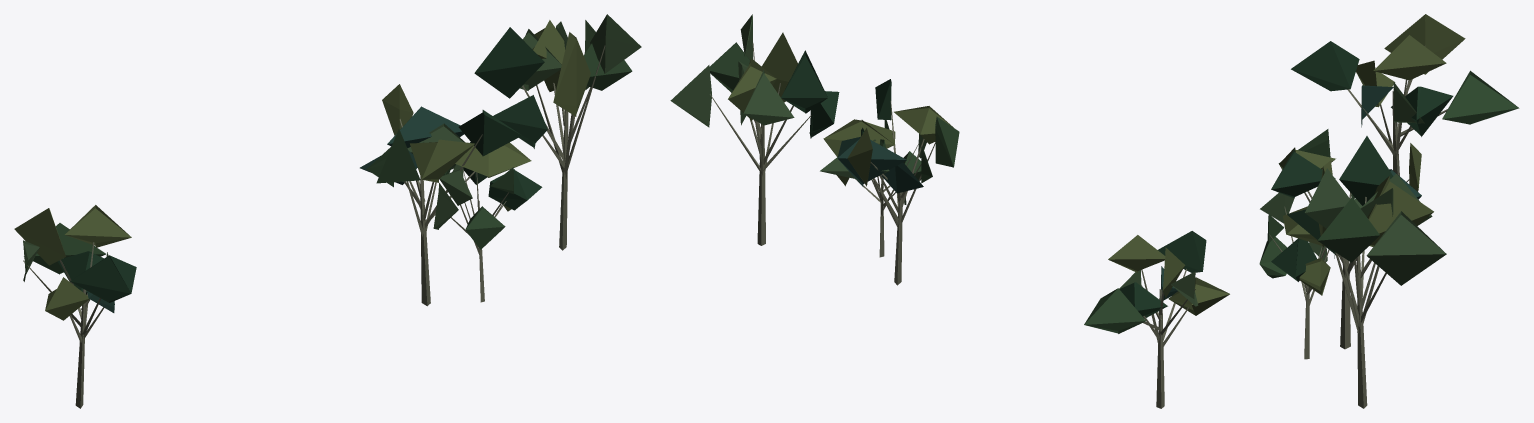
The model's file is forest_24_27.dae.
3 views of the same model, side by side, from view 1: azimuth 30°, elevation 25°; view 2: azimuth 150°, elevation 25°; view 3: azimuth 270°, elevation 25° (orthographic). The views are drawn at different scales.
Visible parts, largest first — view 1: Node; view 2: Node; view 3: Node.
Part boxes in pixels (left/top/right/bottom): Node: left=14, top=14, right=641, bottom=408; Node: left=670, top=14, right=1229, bottom=408; Node: left=1259, top=14, right=1519, bottom=408.
Bounding box in the file's own units: 9.09 × 3.32 × 4.41.
